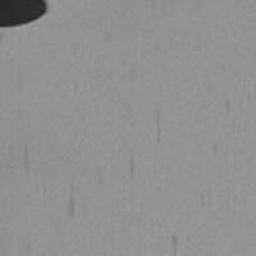Punching: (0, 0, 47, 27)
